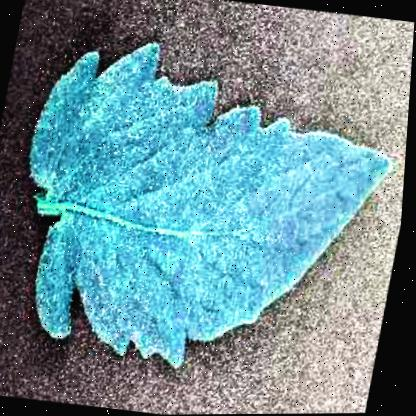Healthy: (0, 24, 414, 391)
